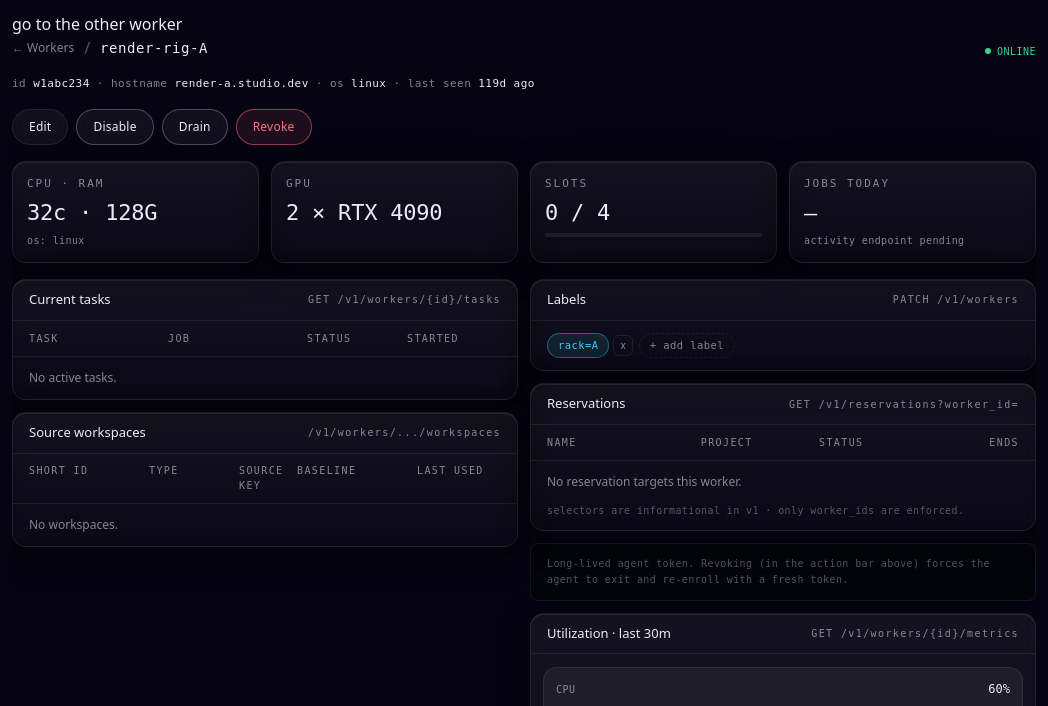
admins can add a label inline without opening the full Edit dialog
Click the button "+ add label": [687, 345] box [639,332,735,358]
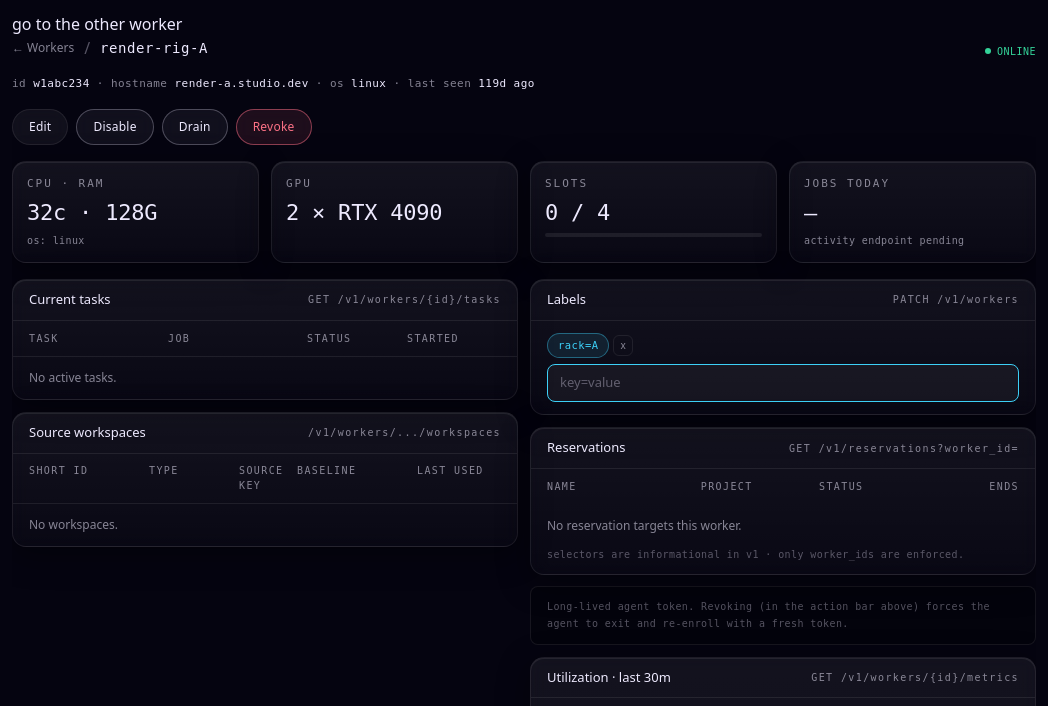
Expected: the field is shown, [547,364,1019,402]
